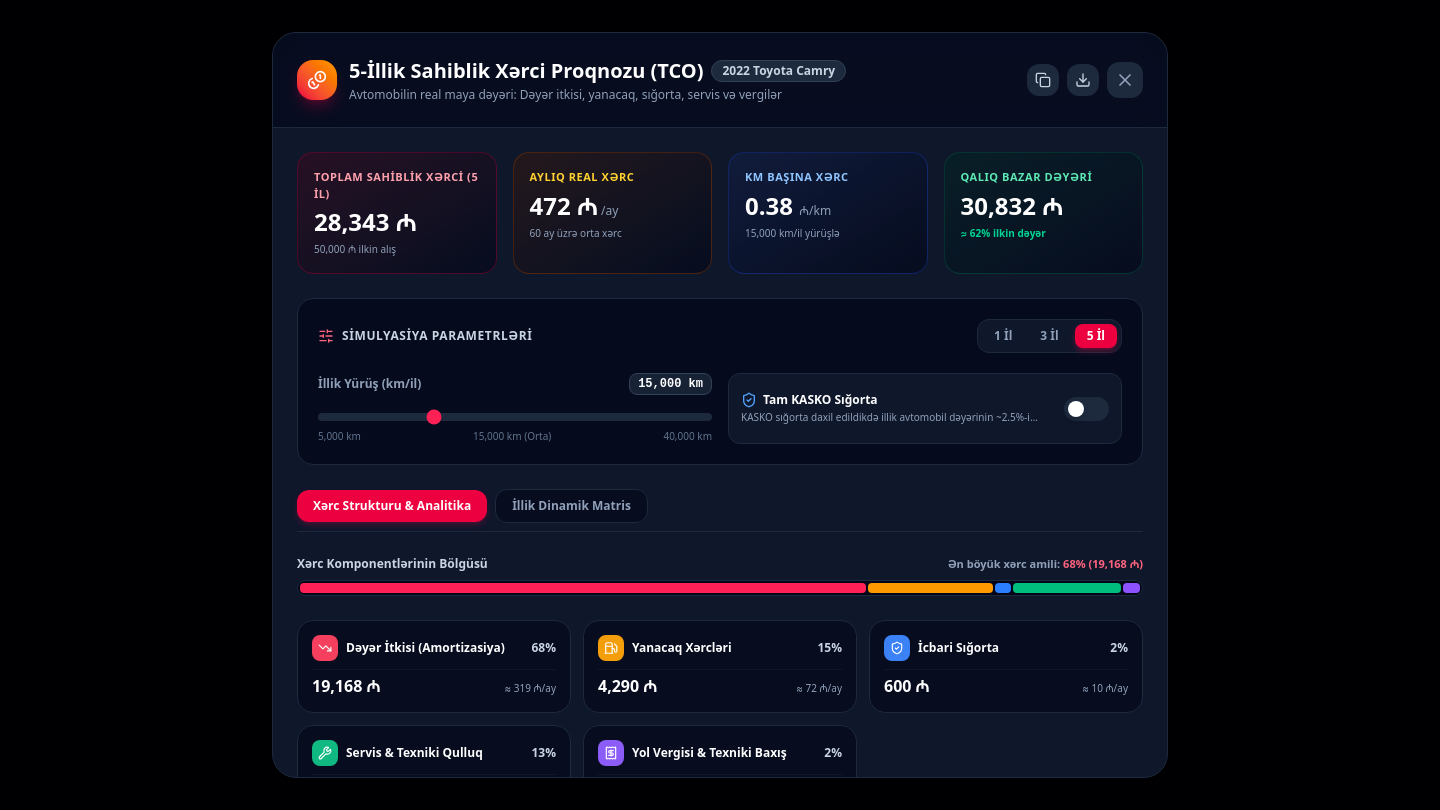
it: TcoForecasterModal › switches between Cost Structure (Summary) and Dynamic Matrix tabs
Check: the element with test id "tco-stacked-bar" is shown, box 297,580 -> 1143,596
Click Matrix Tab
Click the button with test id "tco-tab-matrix": (571, 506) 495,489 -> 648,523
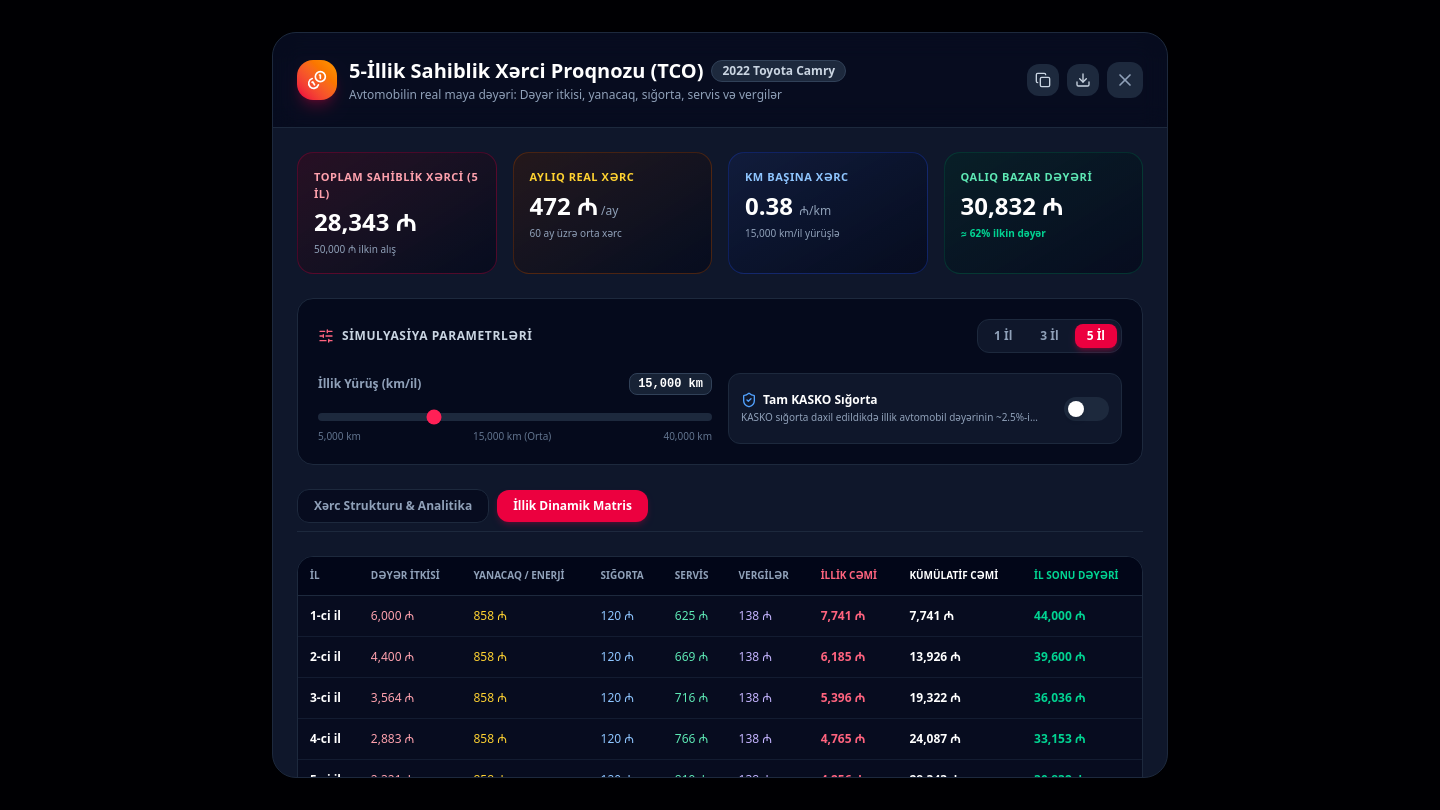
Check: the table with test id "tco-matrix-table" is shown, box 298,557 -> 1142,777
Check: the element with test id "tco-stacked-bar" is gone
Click back to Summary Tab
Click the button with test id "tco-tab-summary": (393, 506) 297,489 -> 489,523
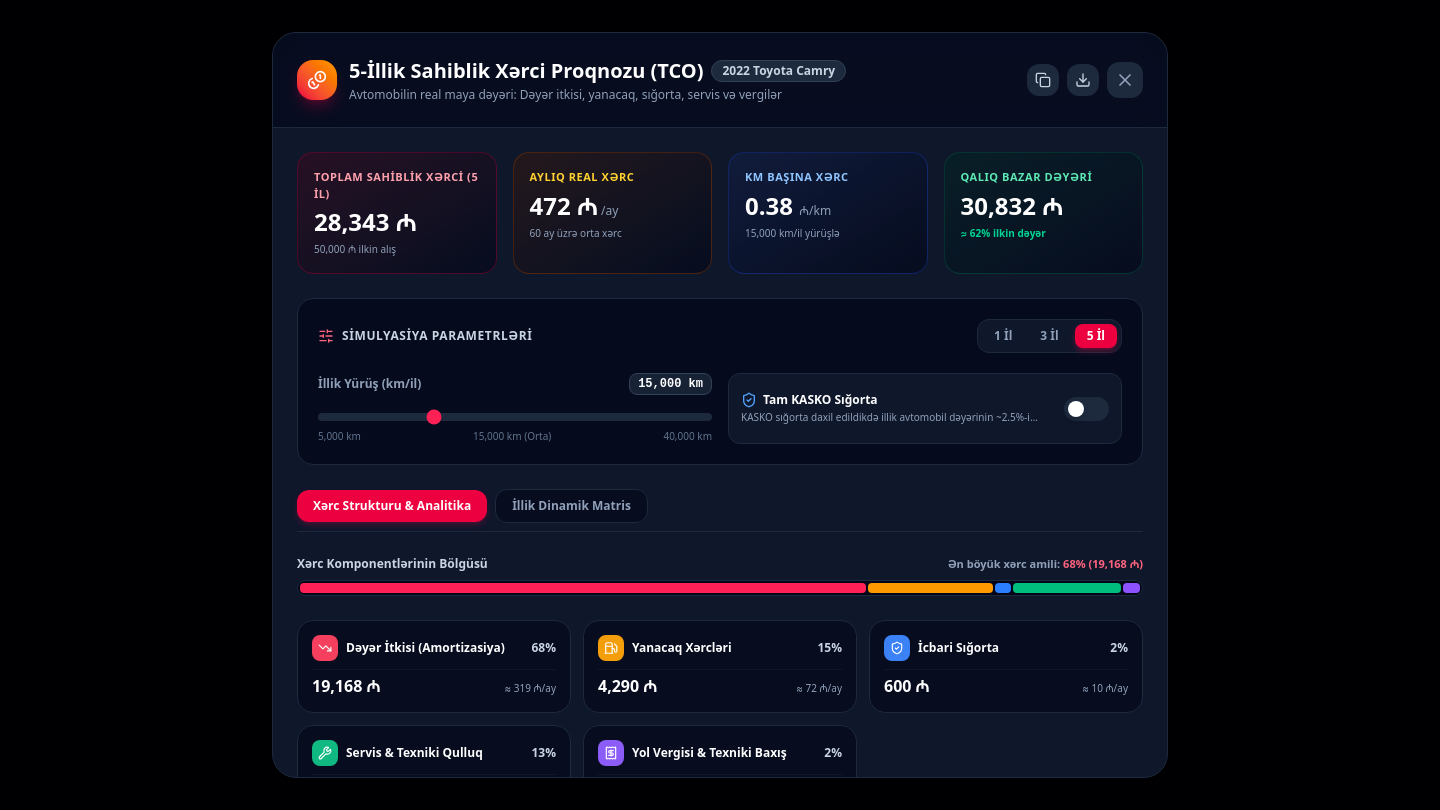
Check: the element with test id "tco-stacked-bar" is shown, box 297,580 -> 1143,596
